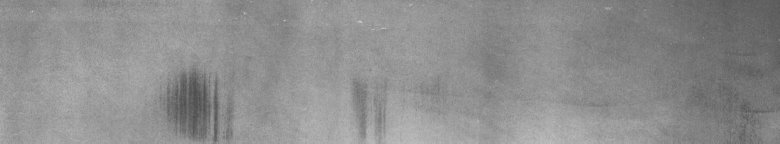ka: (160, 12, 247, 136)
